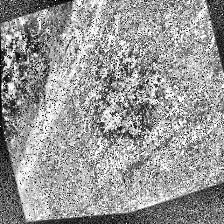pothole: (82, 36, 174, 156)
